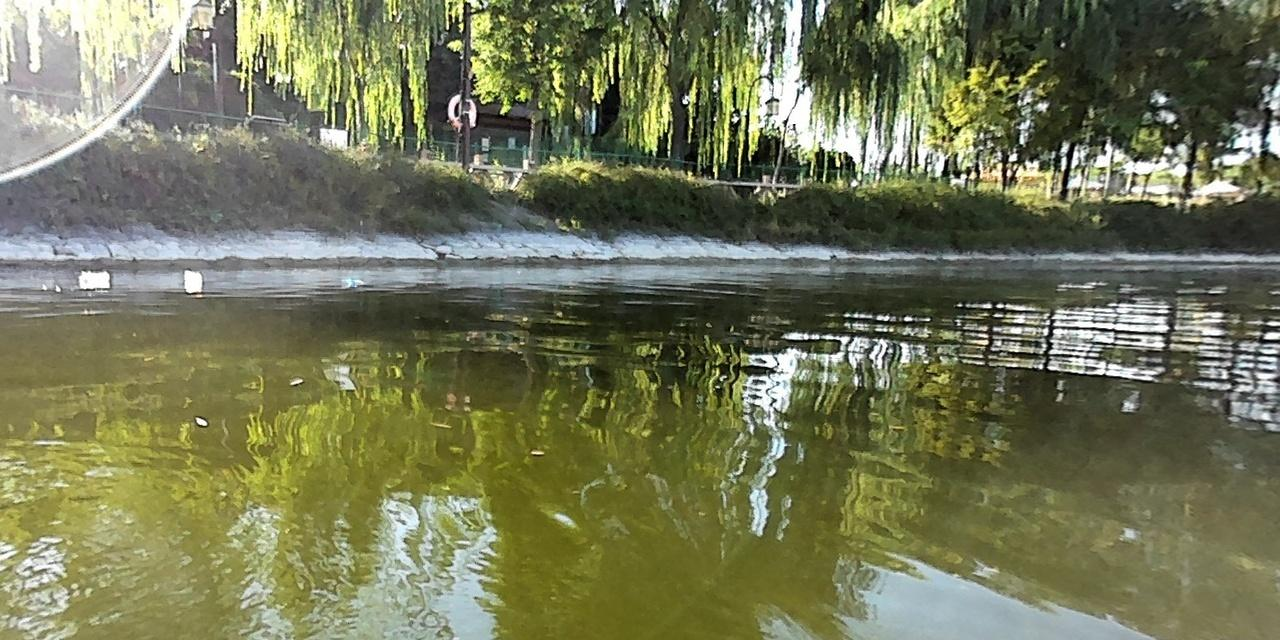bottle: (339, 273, 367, 289)
